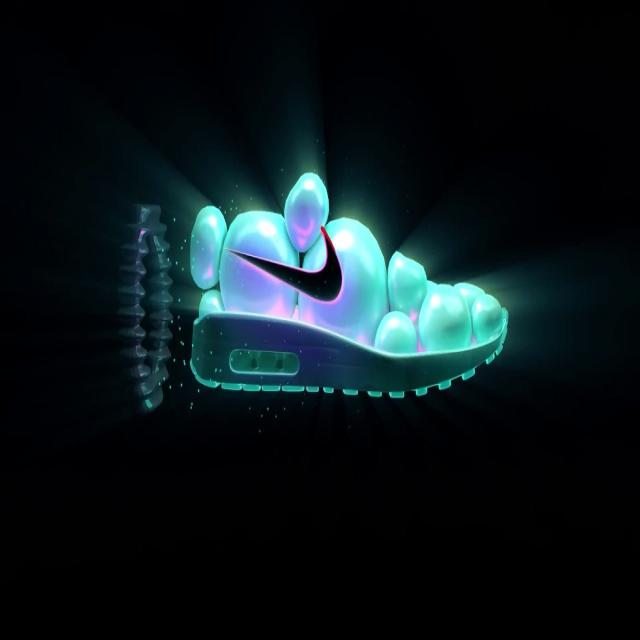nike: (233, 221, 347, 306)
